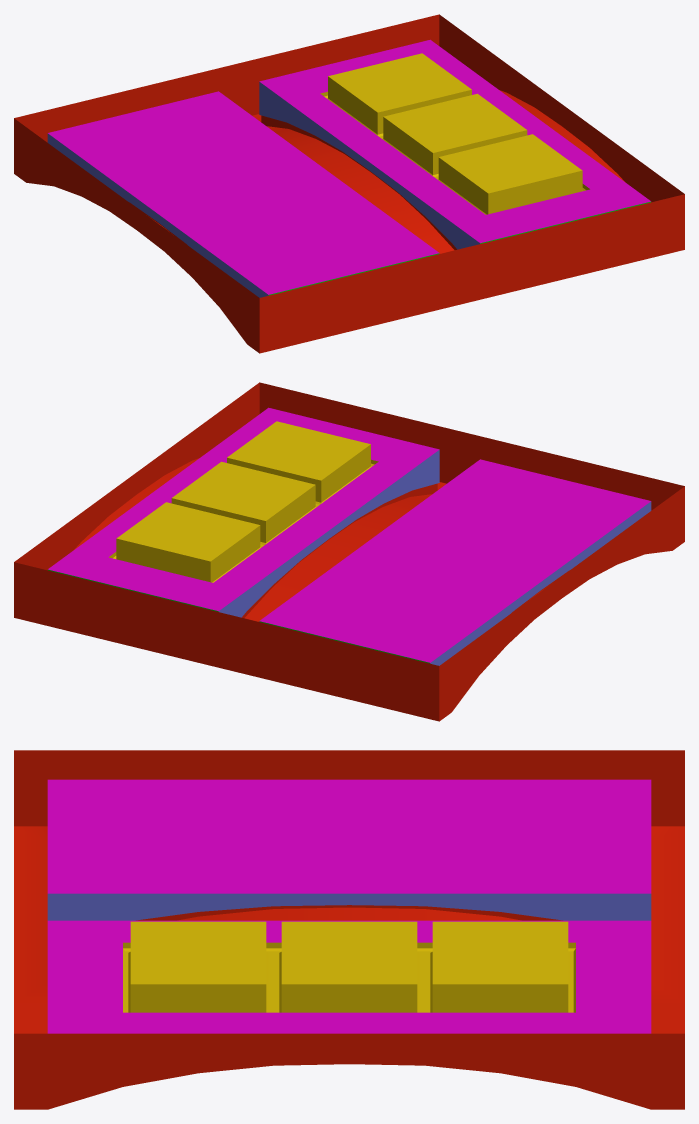
Rendered from HallRoof.fbx.
3 views of the same model, one above another, from view 1: azimuth 30°, elevation 25°; view 2: azimuth 150°, elevation 25°; view 3: azimuth 270°, elevation 25° (orthographic). The views are drawn at different scales.
Visible parts, largest first — view 1: Roof; view 2: Roof; view 3: Roof.
Part boxes in pixels (left/top/right/bottom): Roof: left=14, top=14, right=684, bottom=353; Roof: left=14, top=382, right=684, bottom=721; Roof: left=14, top=750, right=684, bottom=1109.
Bounding box in the file's own units: 4 × 0.5625 × 4.
